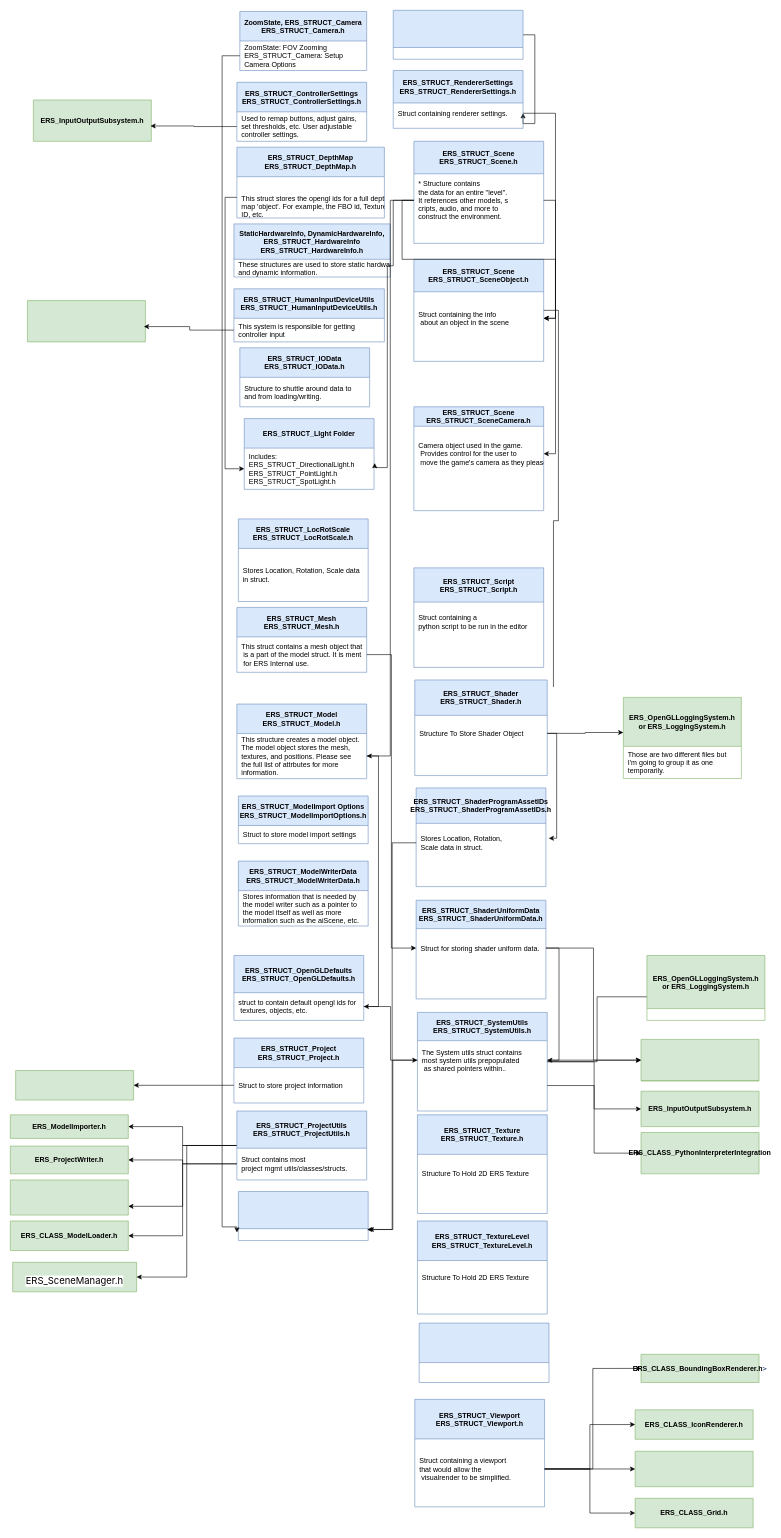
This 781x1538 diagram has some shape labels left out. The shapes that lost their labels are listed below. From the top down, each one's centre as x and y in pixels, then its label:
point 458,34: ERS_STRUCT_RendererSettings ERS_ENUM_ShadowUpdateMode.h
point 86,321: ERS_ControllerInputManager.h
point 699,1060: ERS_FramerateManager.h
point 74,1085: ERS_HardwareInformation.h
point 69,1197: ERS_ProjectLoader.h
point 303,1215: ERS_STRUCT_RendererSettings ERS_ENUM_ShadowFilteringType.h
point 484,1352: ERS_STRUCT_Vertex ERS_STRUCT_Vertex.h
point 694,1469: ERS_CLASS_InputProcessor.h
